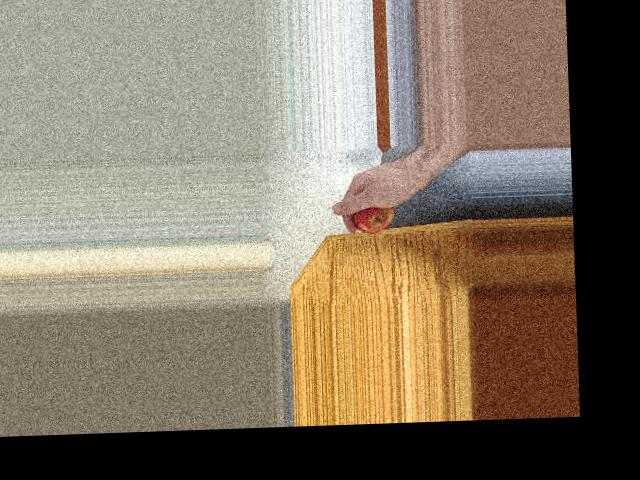apple: (349, 193, 394, 234)
